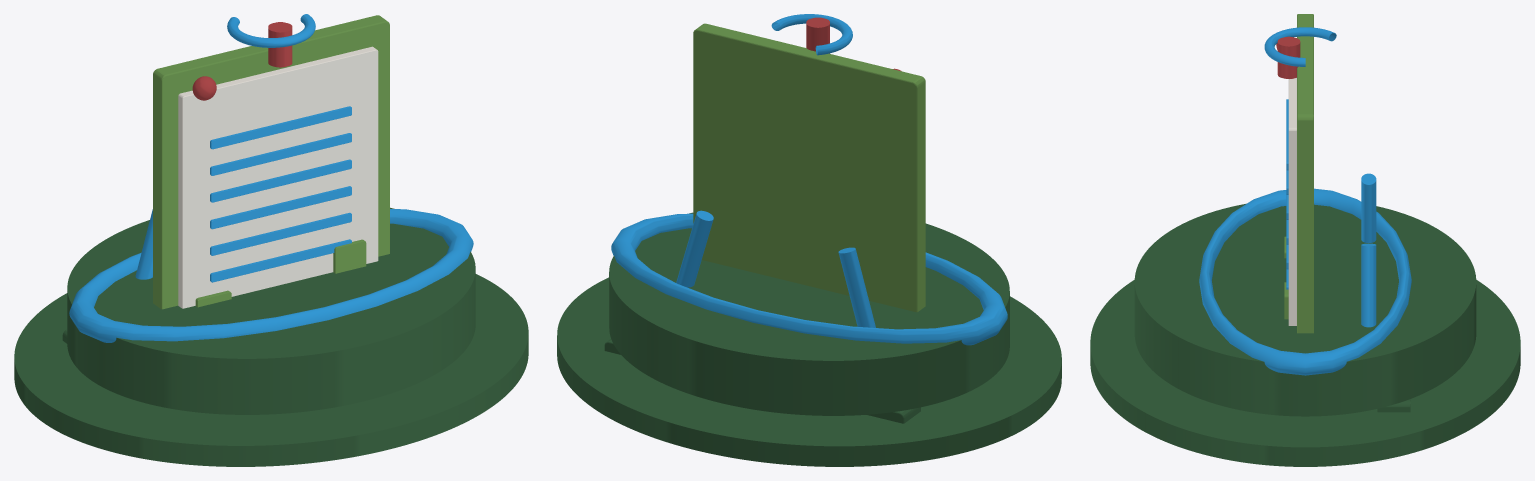
Rendered from 0278_世界古代文明图鉴_象形文字石碑.glb.
3 renders of one model, left to right at view 1: azimuth 30°, elevation 25°; view 2: azimuth 150°, elevation 25°; view 3: azimuth 270°, elevation 25°, orthographic. The views are drawn at different scales.
Visible parts, largest first — view 1: card_0278; view 2: card_0278; view 3: card_0278.
Part boxes in pixels (left/top/right/bottom): card_0278: left=14, top=14, right=528, bottom=466; card_0278: left=557, top=14, right=1061, bottom=466; card_0278: left=1090, top=14, right=1520, bottom=466.
Size of the model in its own units: 1.39 by 1 by 1.21.
